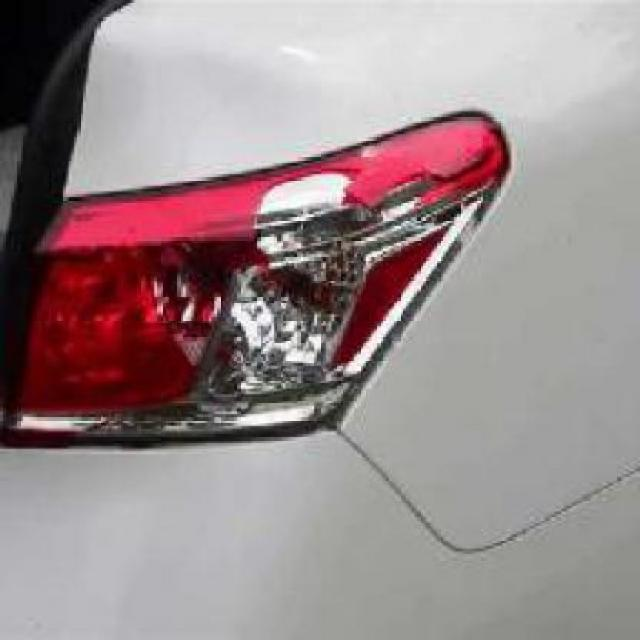damaged-tail-light: (28, 107, 504, 450)
